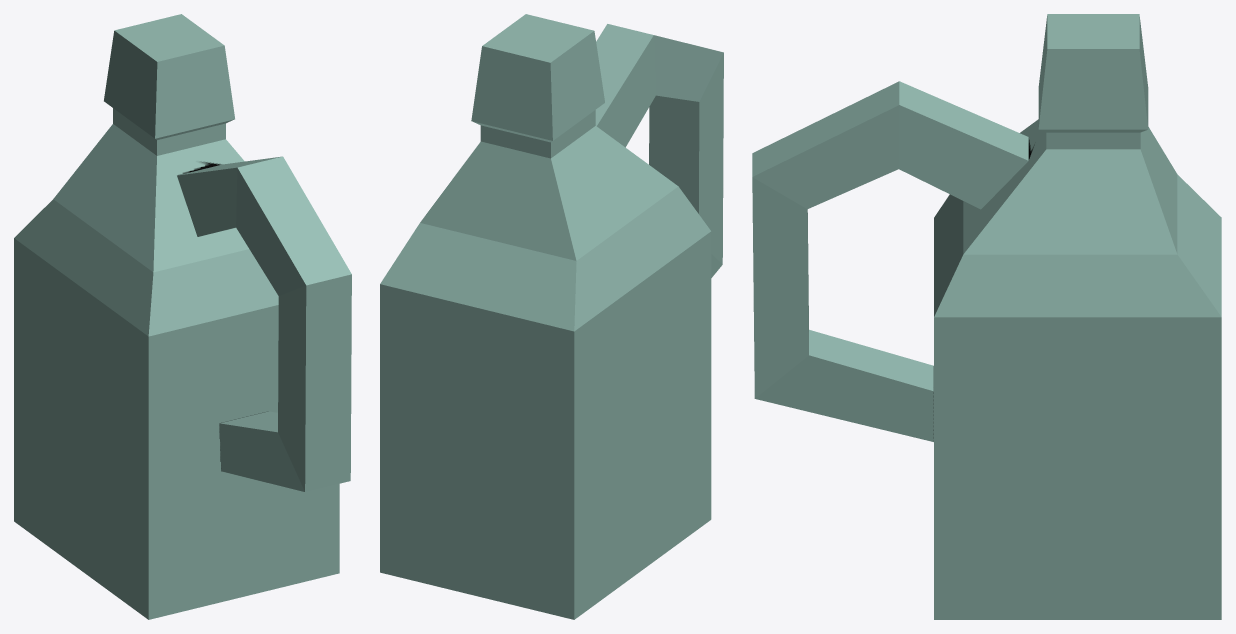
The model's file is Detergent.fbx.
3 views of the same model, side by side, from view 1: azimuth 30°, elevation 25°; view 2: azimuth 150°, elevation 25°; view 3: azimuth 270°, elevation 25° (orthographic). The views are drawn at different scales.
Visible parts, largest first — view 1: Detergent; view 2: Detergent; view 3: Detergent.
Part boxes in pixels (left/top/right/bottom): Detergent: left=14, top=14, right=351, bottom=619; Detergent: left=380, top=14, right=723, bottom=619; Detergent: left=752, top=14, right=1221, bottom=619.
Size of the model in its own units: 12.08 by 30.47 by 24.07.
